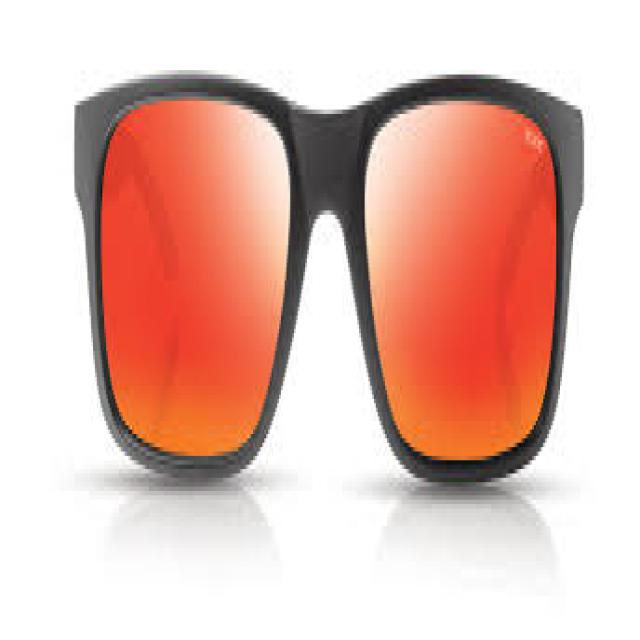suspicious-objects: (71, 70, 582, 482)
